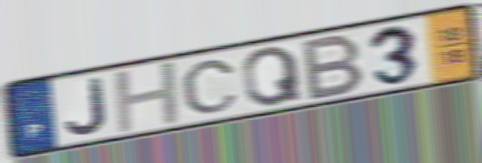3: (367, 22, 427, 91)
B: (301, 31, 367, 104)
C: (179, 58, 242, 116)
H: (111, 58, 185, 137)
J: (63, 75, 110, 137)
Q: (239, 43, 305, 109)
